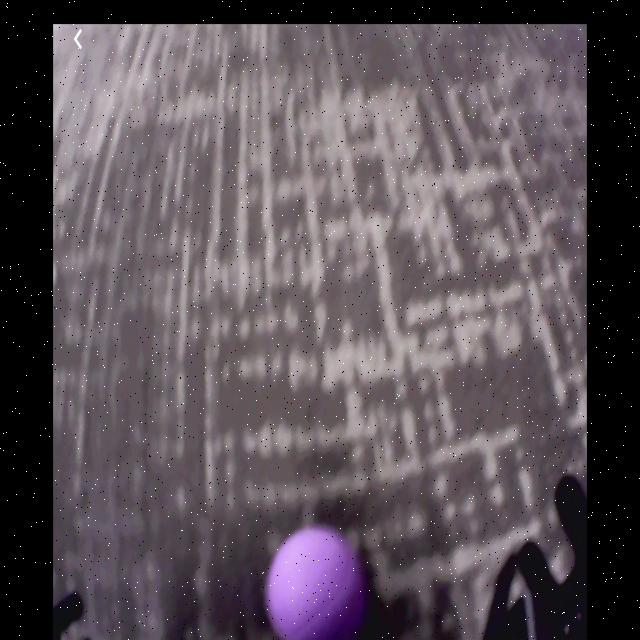ball: (266, 521, 364, 640)
